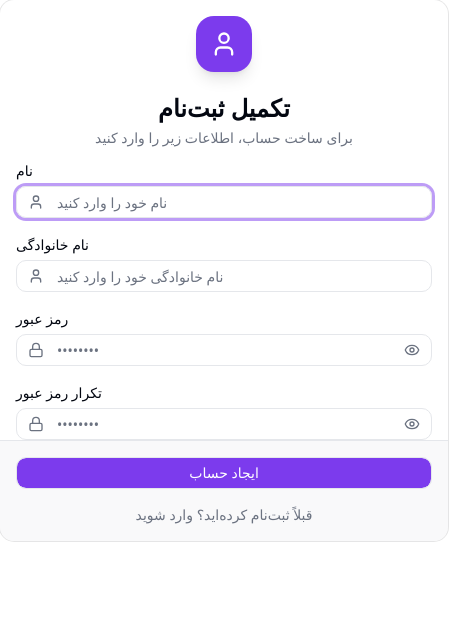
Scenario: CompleteRegistrationForm › shows server error message when registration fails
In the field labelled "نام": (224, 202) [16, 186, 432, 218], type "علی"
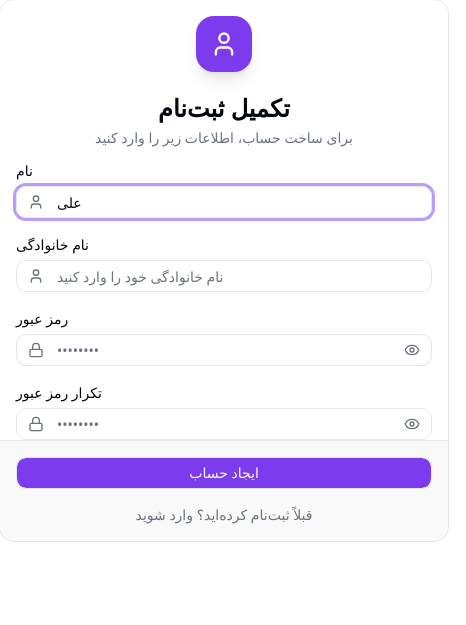
In the field labelled "نام خانوادگی": (224, 276) [16, 260, 432, 292], type "رضایی"
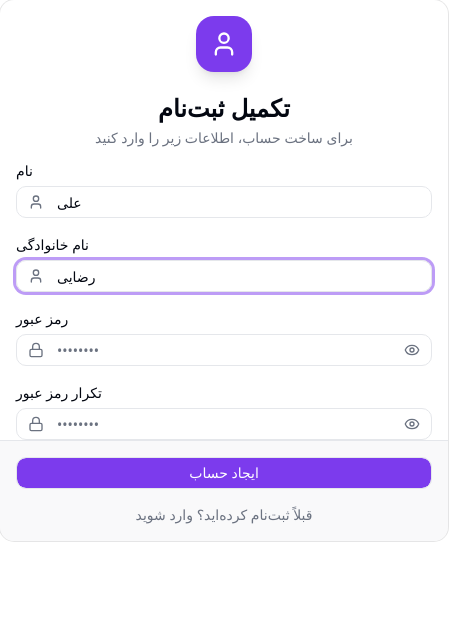
In the password field labelled "رمز عبور": (224, 350) [16, 334, 432, 366], type "StrongPass123!"
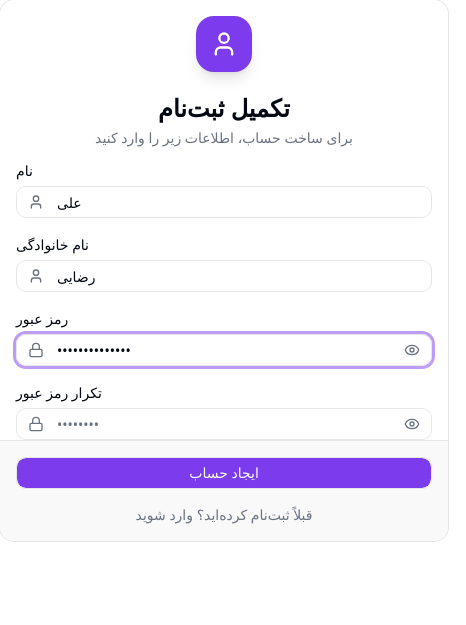
In the password field labelled "تکرار رمز عبور": (224, 424) [16, 408, 432, 440], type "StrongPass123!"
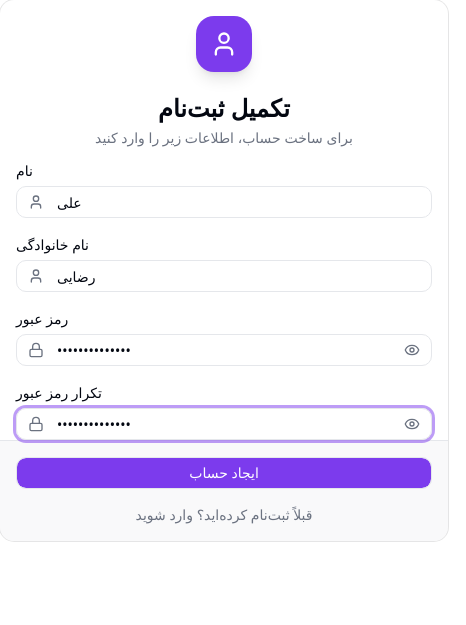
Click the button "ایجاد حساب": (224, 473) [16, 457, 432, 489]
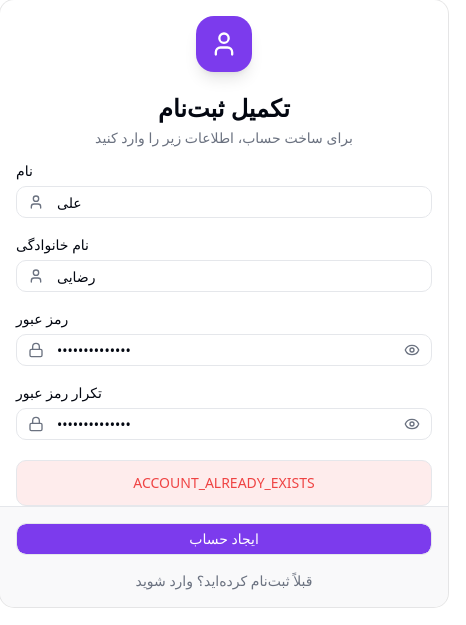
Check: the text "ACCOUNT_ALREADY_EXISTS" is shown, box [133, 473, 315, 492]
